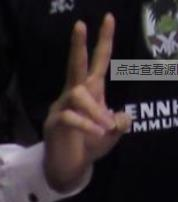front: (41, 10, 133, 177)
